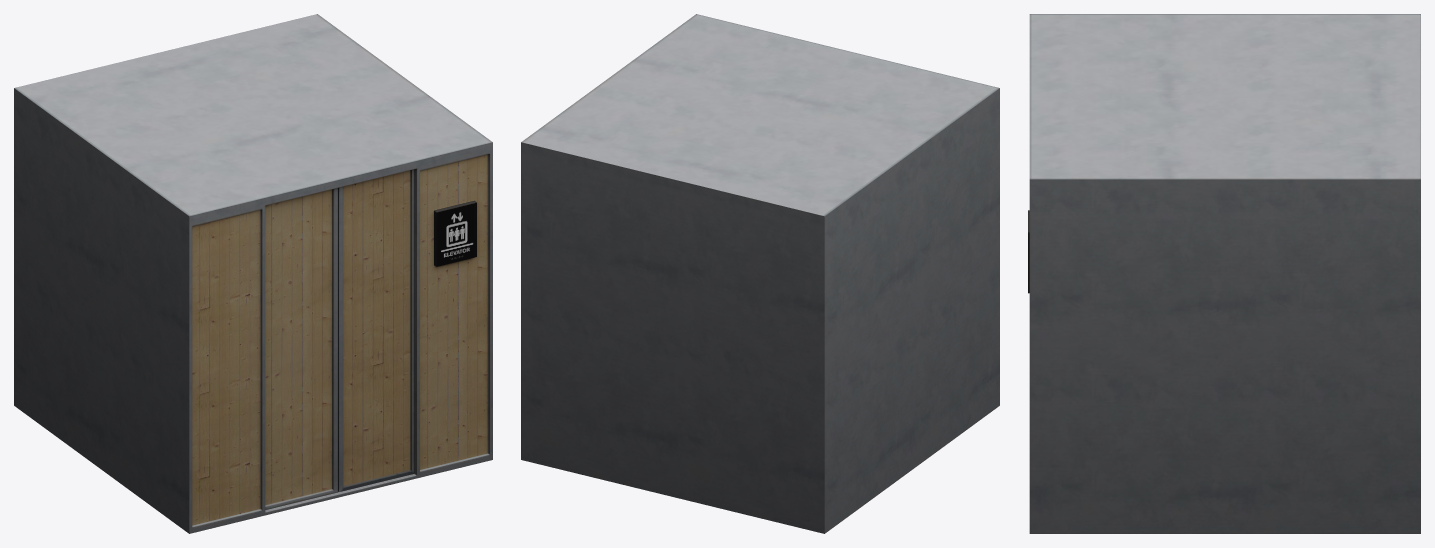
The model's file is elevator.fbx.
The picture shows the model from 3 angles, left to right: view 1: azimuth 30°, elevation 25°; view 2: azimuth 150°, elevation 25°; view 3: azimuth 270°, elevation 25°; orthographic projection. The views are drawn at different scales.
Parts seen in each view (by area): view 1: Elevator.001, Door-Right.001, Door-Left.001; view 2: Elevator.001; view 3: Elevator.001.
Part boxes in pixels (bbox=[...]): Elevator.001: bbox=[14, 14, 492, 533]; Door-Right.001: bbox=[338, 169, 414, 491]; Door-Left.001: bbox=[265, 188, 337, 509]; Elevator.001: bbox=[521, 14, 999, 533]; Elevator.001: bbox=[1028, 14, 1420, 533].
Bounding box in the file's own units: 400 × 400 × 402.
Materials: 2 (1 with a texture image).
